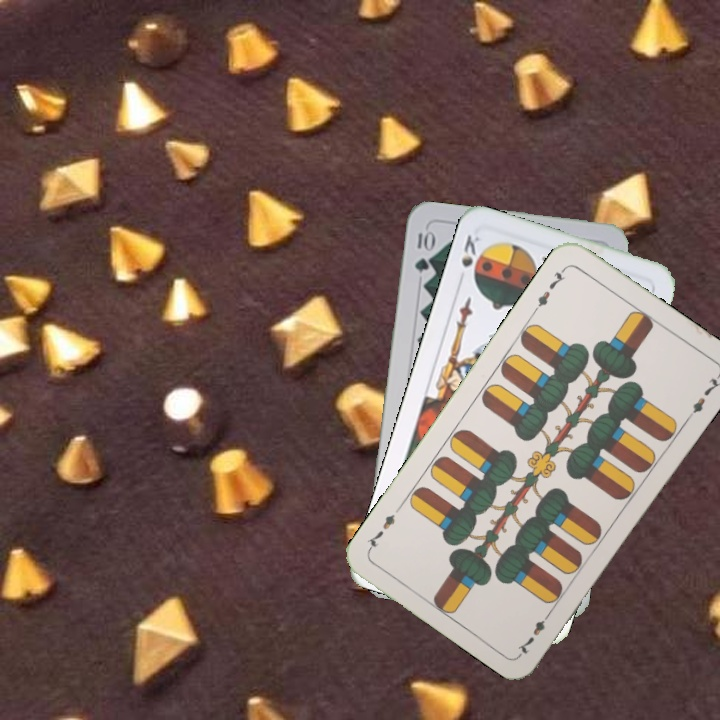E7: (513, 606, 555, 658), (530, 263, 569, 315)
G10: (410, 227, 435, 275)
SK: (457, 230, 484, 270)
